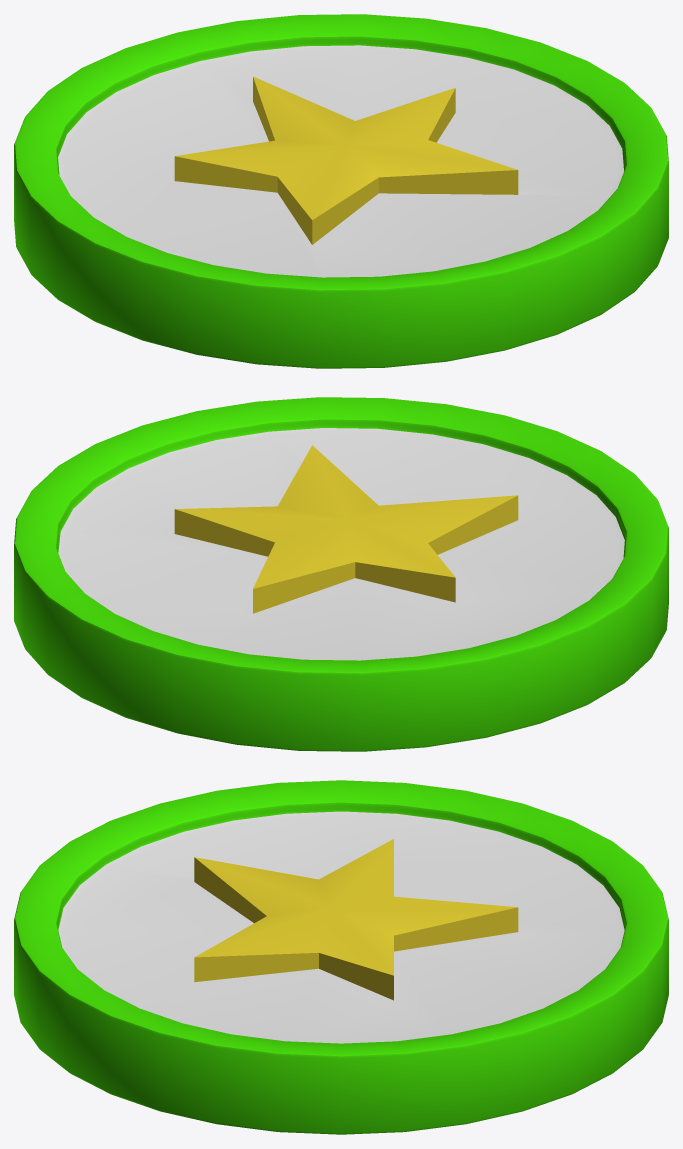
File: Coin.fbx
3 renders of one model, top to bottom at view 1: azimuth 30°, elevation 25°; view 2: azimuth 150°, elevation 25°; view 3: azimuth 270°, elevation 25°, orthographic.
Parts seen in each view (by area): view 1: Circle; view 2: Circle; view 3: Circle.
Part boxes in pixels (box(x1,y1,x2,y2)): Circle: box(14, 14, 668, 368); Circle: box(14, 397, 668, 751); Circle: box(14, 780, 668, 1134).
Bounding box in the file's own units: 200 × 33.84 × 200.
